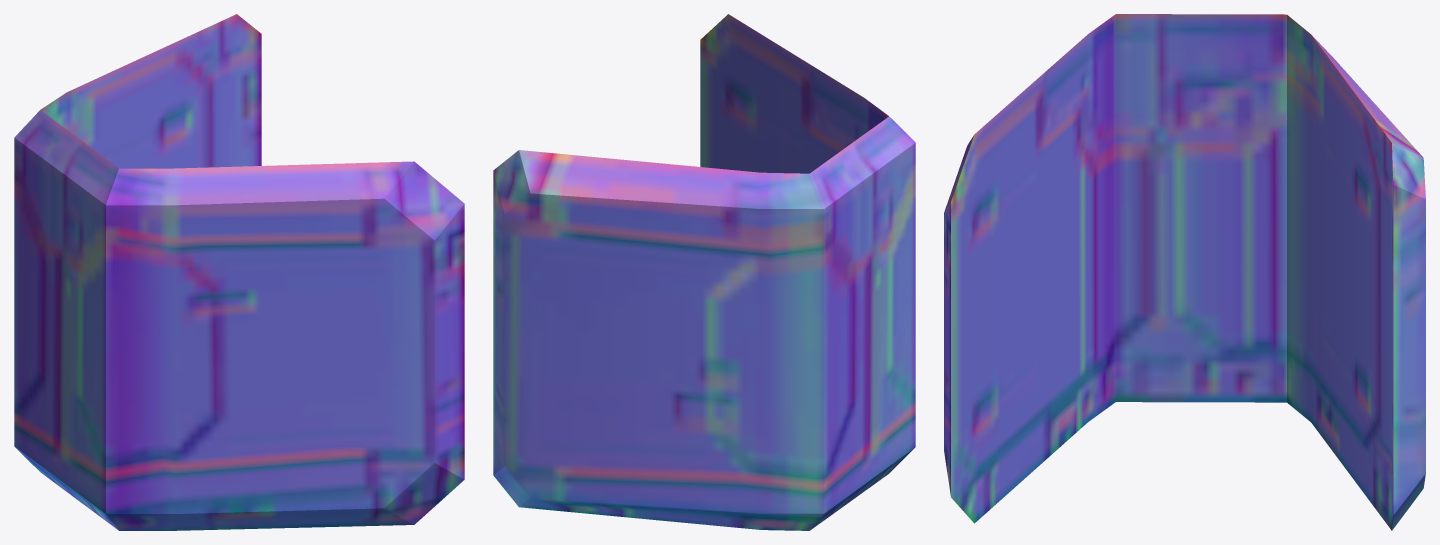
The model's file is ship_debris_05_part_09.glb.
The picture shows the model from 3 angles, left to right: view 1: azimuth 30°, elevation 25°; view 2: azimuth 150°, elevation 25°; view 3: azimuth 270°, elevation 25°; orthographic projection. The views are drawn at different scales.
Visible parts, largest first — view 1: ship_debris_05_part_09; view 2: ship_debris_05_part_09; view 3: ship_debris_05_part_09.
Boxes of the visible parts, box(x1,y1,x2,y2) form: ship_debris_05_part_09: box(14, 14, 464, 530); ship_debris_05_part_09: box(493, 14, 915, 530); ship_debris_05_part_09: box(944, 14, 1425, 530).
Bounding box in the file's own units: 0.8622 × 1.03 × 1.15.
1 material, 1 textured.
